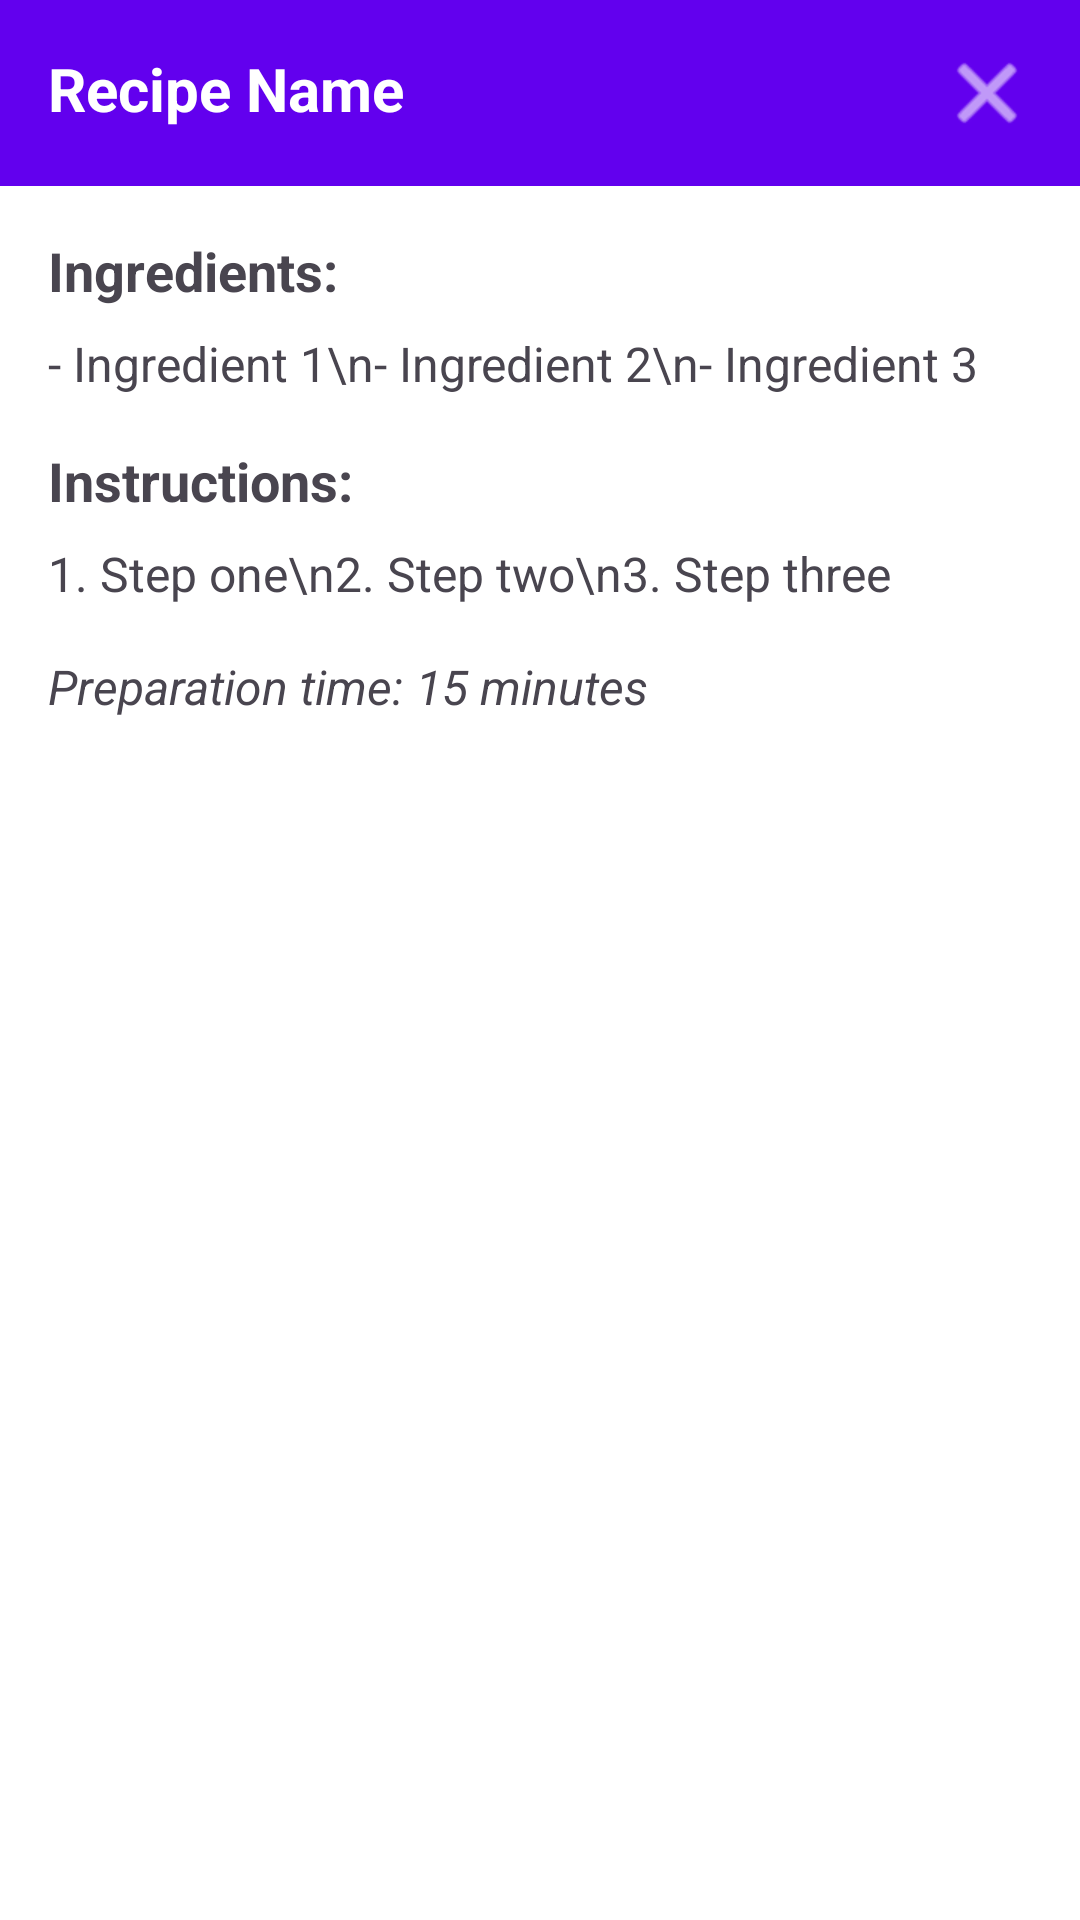

Locate icon controls on the screen. Image size 1080 x 1920, boxes as (x1, y1, x2, y2).
close clear cancel: (957, 63, 1017, 123)
